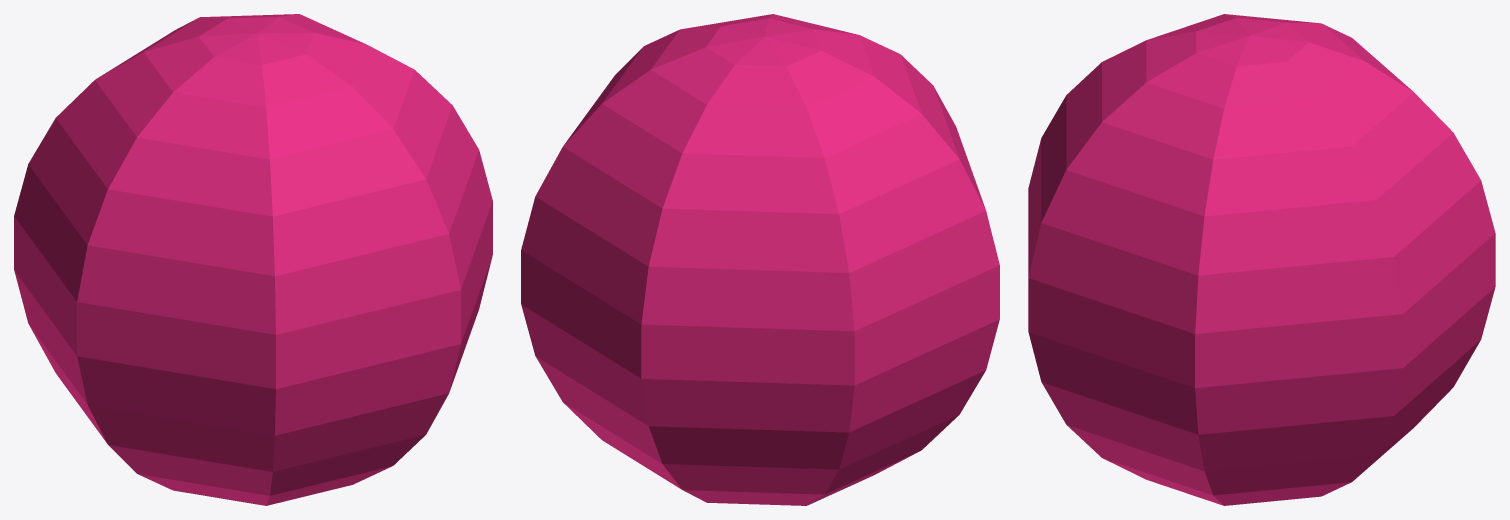
3 renders of one model, left to right at view 1: azimuth 30°, elevation 25°; view 2: azimuth 150°, elevation 25°; view 3: azimuth 270°, elevation 25°, orthographic.
Visible parts, largest first — view 1: Sphere; view 2: Sphere; view 3: Sphere.
Boxes of the visible parts, x1,y1,x2,y2 form: Sphere: [14, 14, 492, 505]; Sphere: [521, 14, 999, 505]; Sphere: [1028, 14, 1495, 505].
Size of the model in its own units: 2.79 by 2.88 by 2.72.
